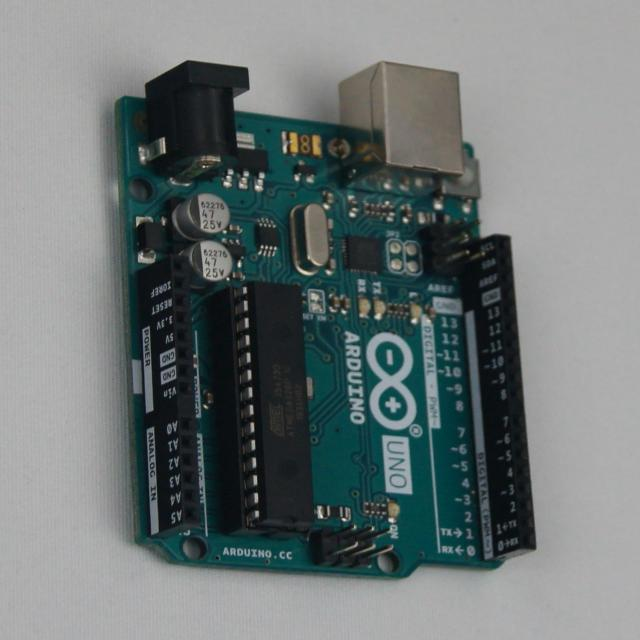Arduino Uno -Green-: (117, 62, 534, 578)
